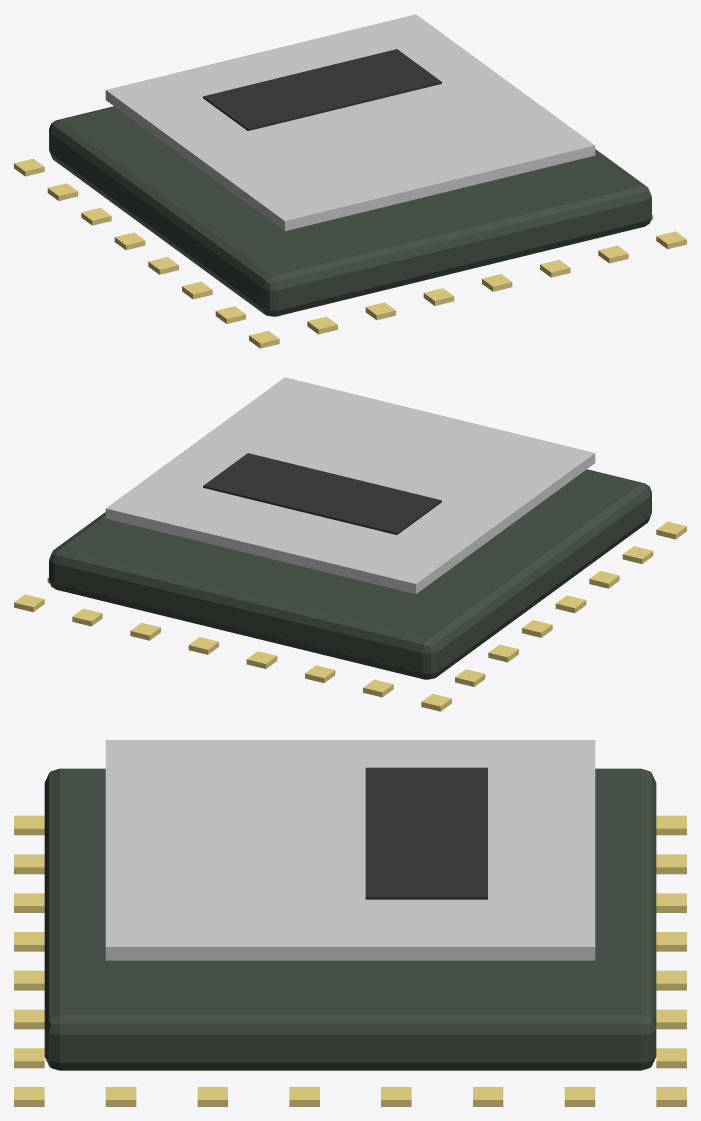
The model's file is prop_cpu_chip.glb.
The picture shows the model from 3 angles, top to bottom: view 1: azimuth 30°, elevation 25°; view 2: azimuth 150°, elevation 25°; view 3: azimuth 270°, elevation 25°; orthographic projection. The views are drawn at different scales.
Parts seen in each view (by area): view 1: prop_cpu_chip; view 2: prop_cpu_chip; view 3: prop_cpu_chip.
Boxes of the visible parts, left/top/right/bottom form: prop_cpu_chip: left=14, top=14, right=686, bottom=348; prop_cpu_chip: left=14, top=377, right=686, bottom=711; prop_cpu_chip: left=14, top=740, right=686, bottom=1106.
Bounding box in the file's own units: 0.044 × 0.00955 × 0.044.
